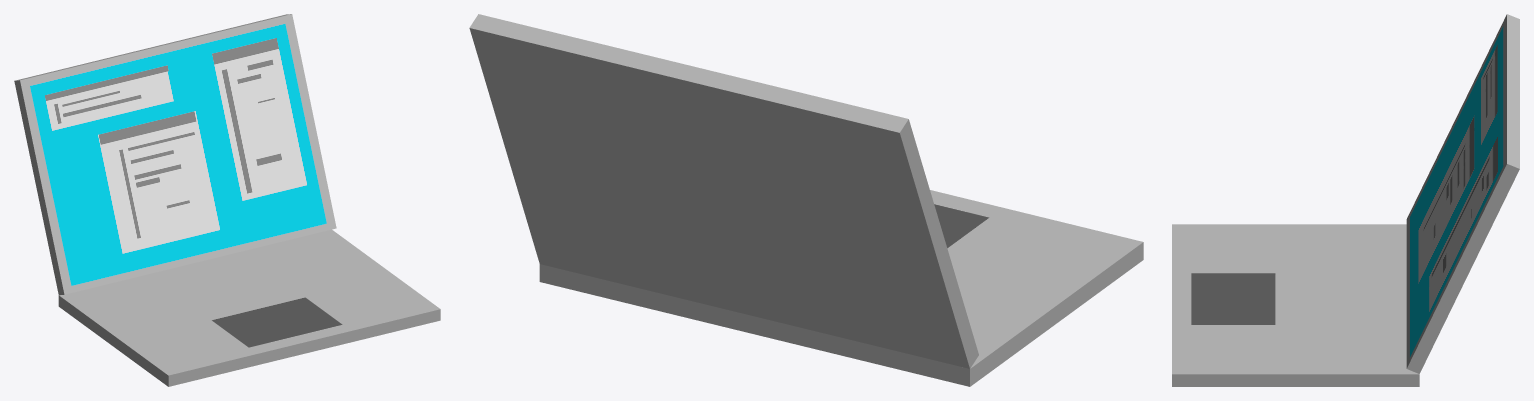
The model's file is Laptop.fbx.
3 renders of one model, left to right at view 1: azimuth 30°, elevation 25°; view 2: azimuth 150°, elevation 25°; view 3: azimuth 270°, elevation 25°, orthographic. The views are drawn at different scales.
Visible parts, largest first — view 1: pCube3; view 2: pCube3; view 3: pCube3.
Part boxes in pixels (<box>): pCube3: <box>14,14,440,386</box>; pCube3: <box>469,14,1143,386</box>; pCube3: <box>1172,14,1519,386</box>.
Size of the model in its own units: 52.62 by 36.55 by 51.64.
